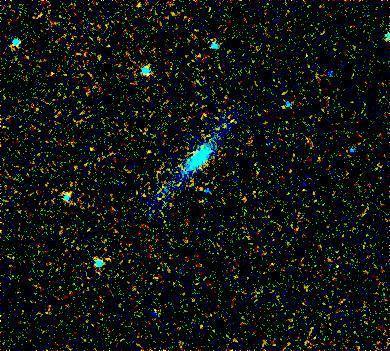star: (74, 135, 104, 165)
